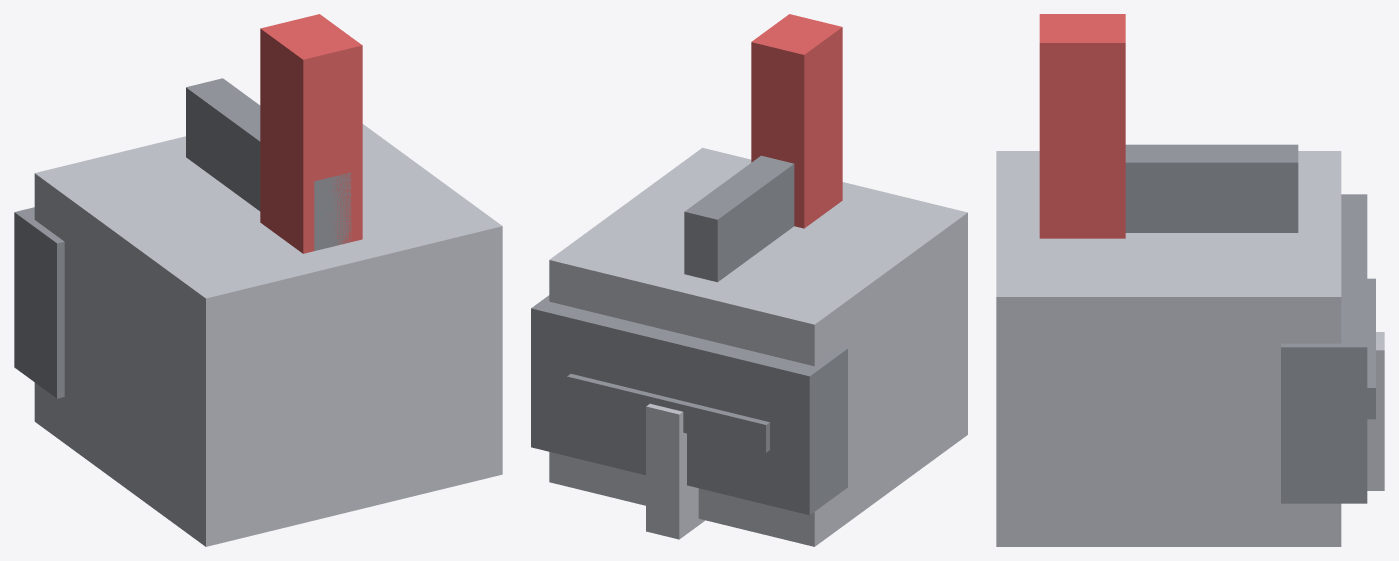
Rendered from knighthelm.glb.
3 views of the same model, side by side, from view 1: azimuth 30°, elevation 25°; view 2: azimuth 150°, elevation 25°; view 3: azimuth 270°, elevation 25° (orthographic). The views are drawn at different scales.
Visible parts, largest first — view 1: dome, plume, crest, brow; view 2: dome, brow, plume, crest, slit, nose; view 3: dome, plume, brow, crest, nose, slit.
Boxes of the visible parts, <box> form: dome: <box>34,124,502,546</box>; plume: <box>260,14,362,253</box>; crest: <box>186,78,351,250</box>; brow: <box>14,207,64,398</box>; dome: <box>549,147,967,546</box>; brow: <box>531,295,847,515</box>; plume: <box>751,14,842,228</box>; crest: <box>684,155,794,282</box>; slit: <box>567,374,769,452</box>; nose: <box>646,403,704,539</box>; dome: <box>996,151,1341,546</box>; plume: <box>1039,14,1125,238</box>; brow: <box>1281,194,1367,503</box>; crest: <box>1125,144,1298,232</box>; nose: <box>1367,332,1384,490</box>; slit: <box>1367,278,1375,419</box>.
Bounding box in the file's own units: 0.42 × 0.58 × 0.45.
